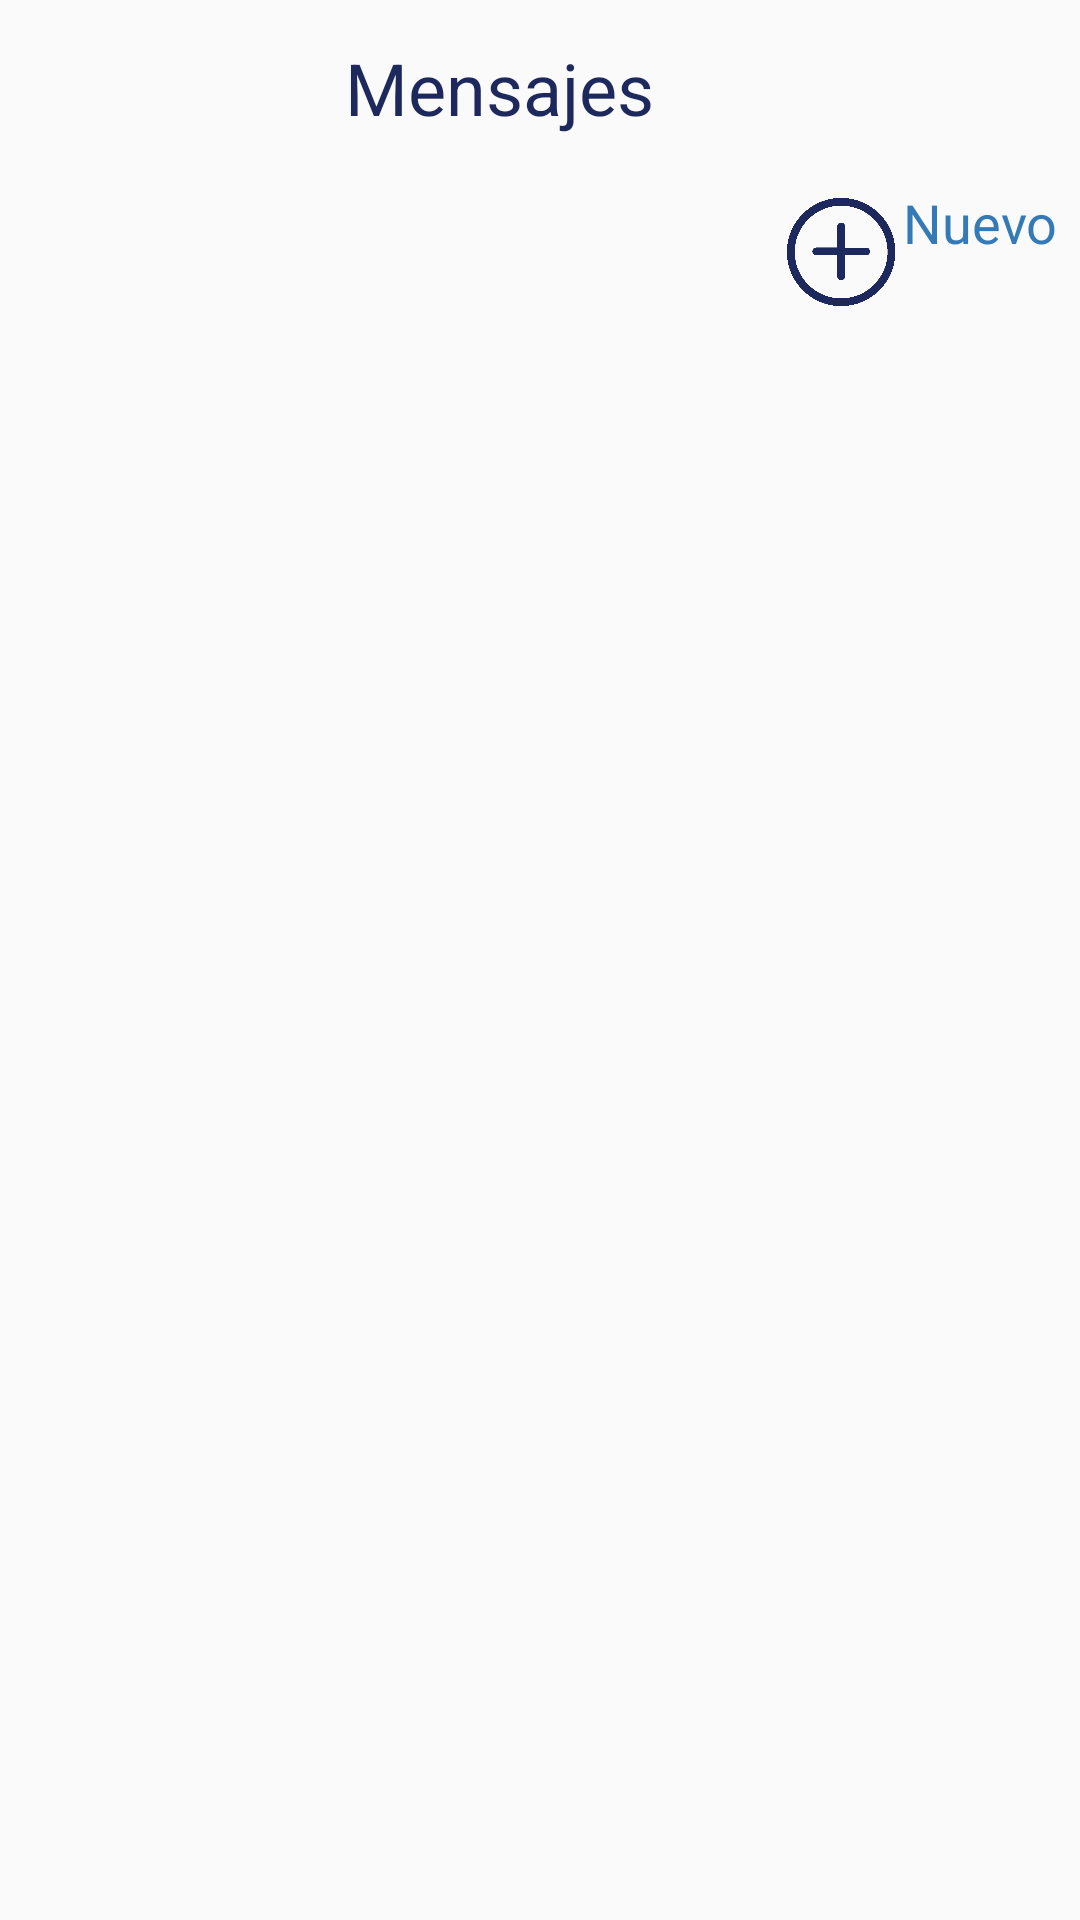

Icons on this 1080×1920 Android screen, each with its box as box(x1, y1, x2, y2):
agregar: box(787, 198, 895, 306)
